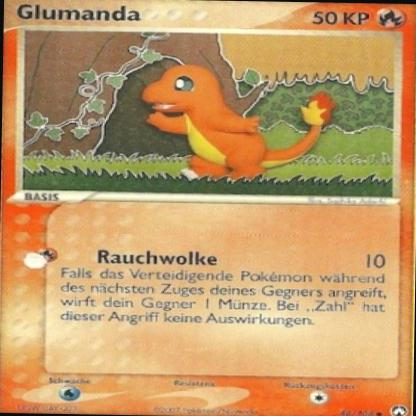Charmander: (131, 61, 338, 186)
